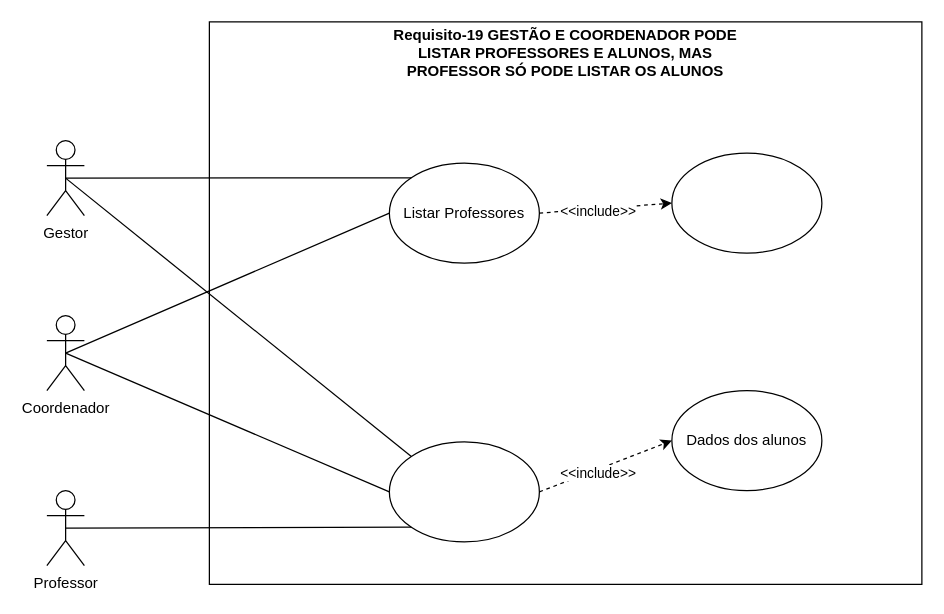
The diagram is 944 pixels wide and 614 high, and some of its shapes have lost their labels. Each missing label, with the box of its shape:
Dados dos Professores: (671, 152, 822, 253)
Listar Alunos: (388, 441, 539, 542)
